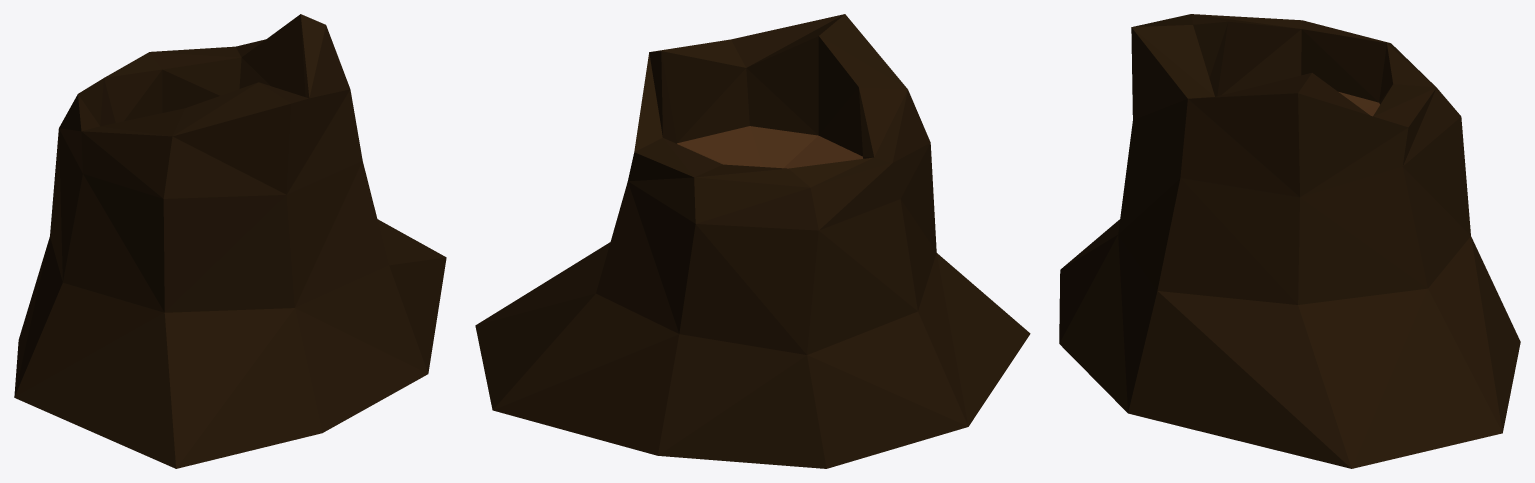
File: tree_stump_2.fbx
The picture shows the model from 3 angles, left to right: view 1: azimuth 30°, elevation 25°; view 2: azimuth 150°, elevation 25°; view 3: azimuth 270°, elevation 25°; orthographic projection. The views are drawn at different scales.
Visible parts, largest first — view 1: tree_stump_2; view 2: tree_stump_2; view 3: tree_stump_2.
Boxes of the visible parts, left/top/right/bottom form: tree_stump_2: left=14, top=14, right=446, bottom=468; tree_stump_2: left=475, top=14, right=1030, bottom=468; tree_stump_2: left=1059, top=14, right=1520, bottom=468.
Size of the model in its own units: 156 by 102 by 130.
